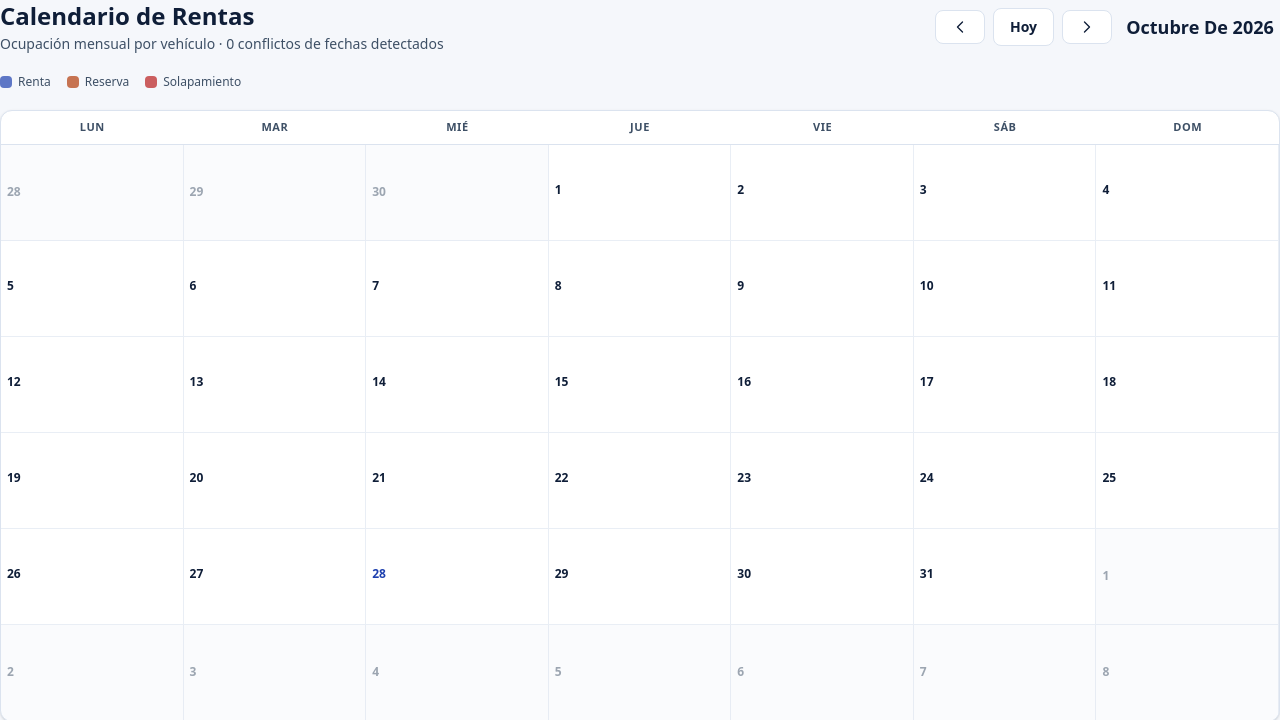
Test: Calendario — ramas de navegación, errores y detalle › un día vacío muestra el estado vacío y se cierra con Escape
Click the button "15" at (640,384), box x1=549 y1=336 x2=731 y2=432
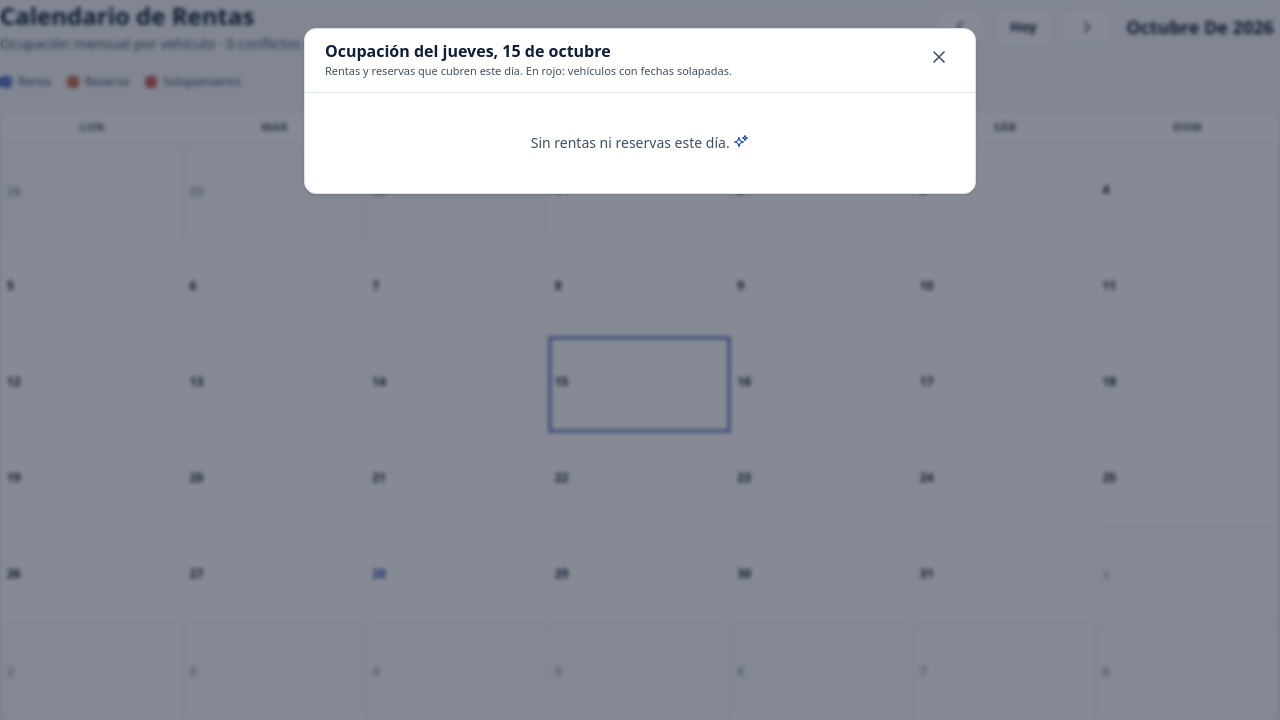
Result: the dialog shows "Sin rentas ni reservas este día." at x1=531 y1=132 x2=733 y2=152
Press Escape
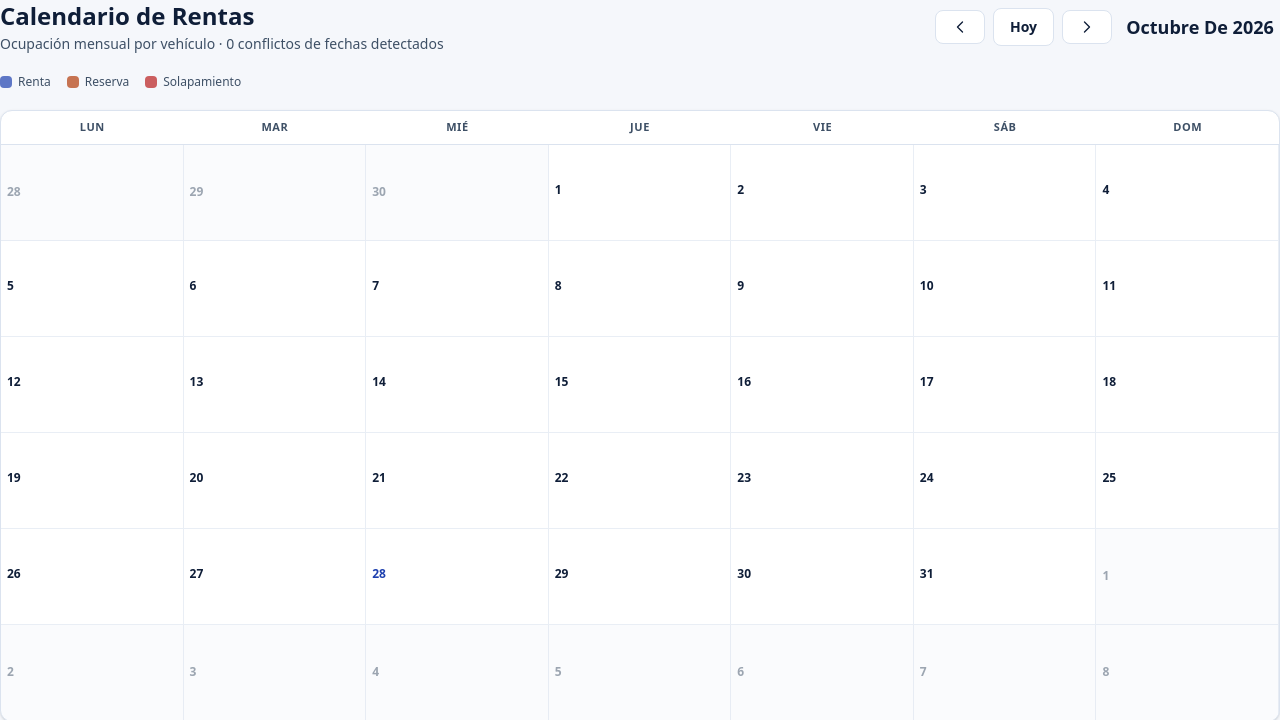
Result: the dialog is gone
